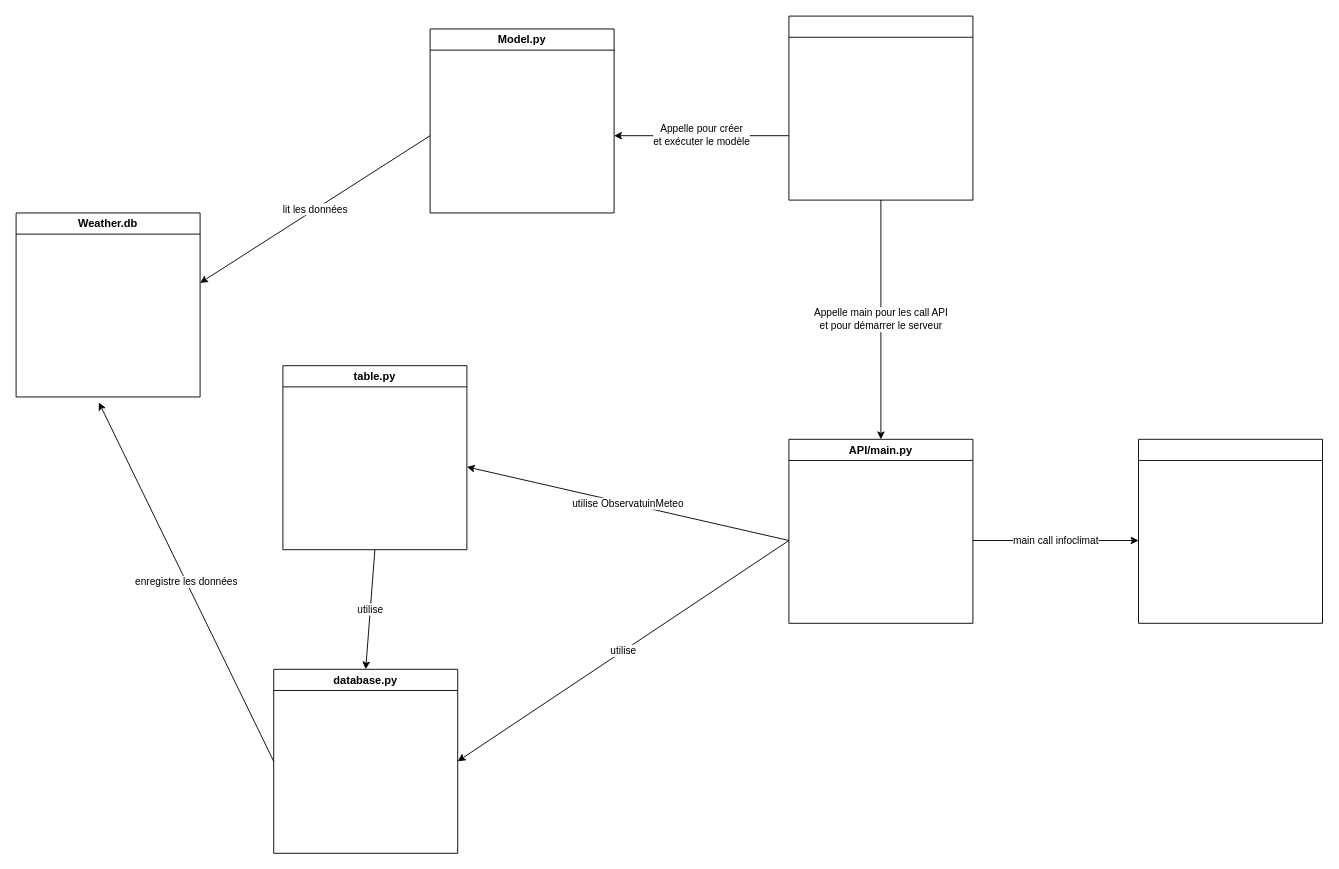
Some shapes in this 1339 by 869 pixel diagram are drawn without their labels. The centre of each missing label's shape, as x and y in pixels:
API/infoclimat.py: point 1230,530
Interface.py: point 880,107
